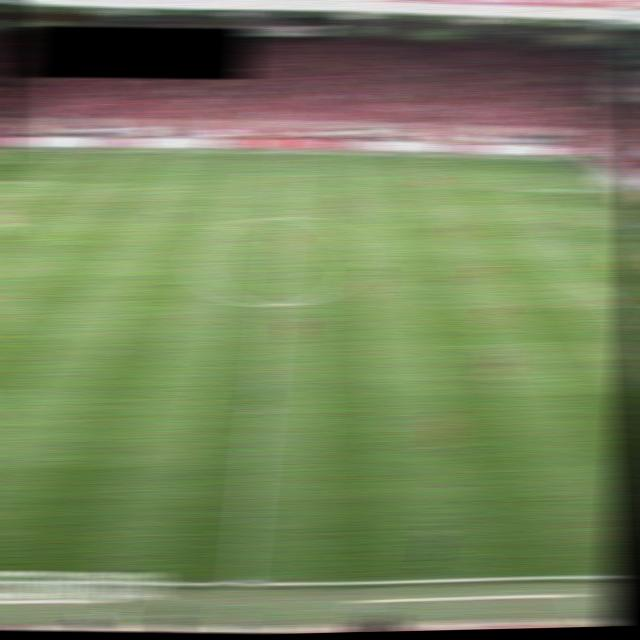bigarea_top_inner: (501, 183, 534, 196), (38, 175, 63, 186)
bigarea_top_outter: (600, 185, 626, 196)
bottom_arc_area_intersection: (591, 290, 617, 302)
corner: (562, 155, 588, 168), (0, 141, 13, 153)
halfcircle_bottom: (259, 299, 284, 310)
halfcircle_top: (269, 210, 295, 223)
midline_bottom_intersection: (222, 573, 259, 593)
midline_top_intersection: (277, 145, 302, 158)
smallarea_top_inner: (606, 217, 632, 230)
top_arc_area_intersection: (538, 222, 563, 235)
